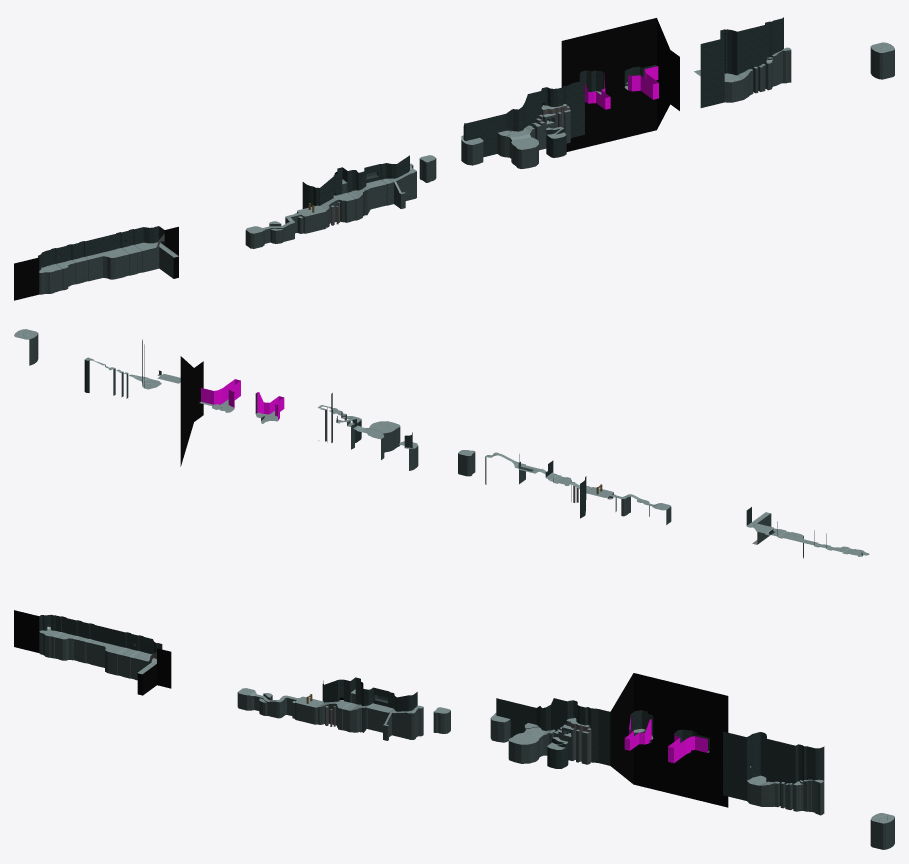
Rendered from mountain.gltf.
The picture shows the model from 3 angles, top to bottom: view 1: azimuth 30°, elevation 25°; view 2: azimuth 150°, elevation 25°; view 3: azimuth 330°, elevation 25°; orthographic projection.
Visible parts, largest first — view 1: root; view 2: root; view 3: root.
Boxes of the visible parts, left/top/right/bottom form: root: left=14, top=17, right=894, bottom=300; root: left=14, top=329, right=869, bottom=558; root: left=14, top=610, right=894, bottom=849.
Size of the model in its own units: 1615 by 197 by 177.
9 materials, 5 textured.
